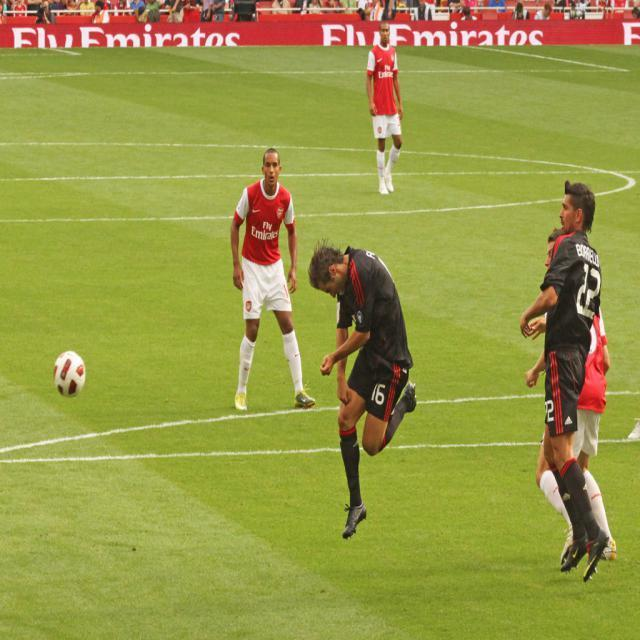football: (43, 344, 105, 431)
